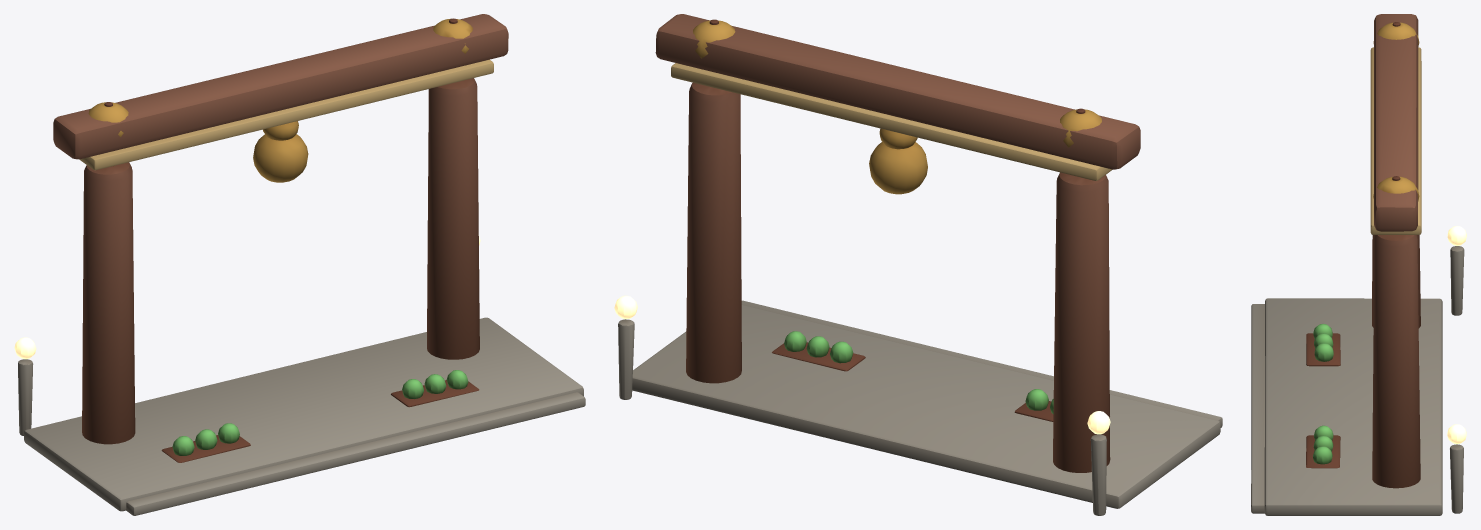
The picture shows the model from 3 angles, left to right: view 1: azimuth 30°, elevation 25°; view 2: azimuth 150°, elevation 25°; view 3: azimuth 270°, elevation 25°; orthographic projection. The views are drawn at different scales.
Parts seen in each view (by area): view 1: gate_864af600; view 2: gate_864af600; view 3: gate_864af600.
Boxes of the visible parts, x1,y1,x2,y2 form: gate_864af600: (14, 14, 585, 515); gate_864af600: (614, 14, 1222, 515); gate_864af600: (1251, 14, 1466, 515).
Size of the model in its own units: 5.8 by 4.09 by 2.55.
